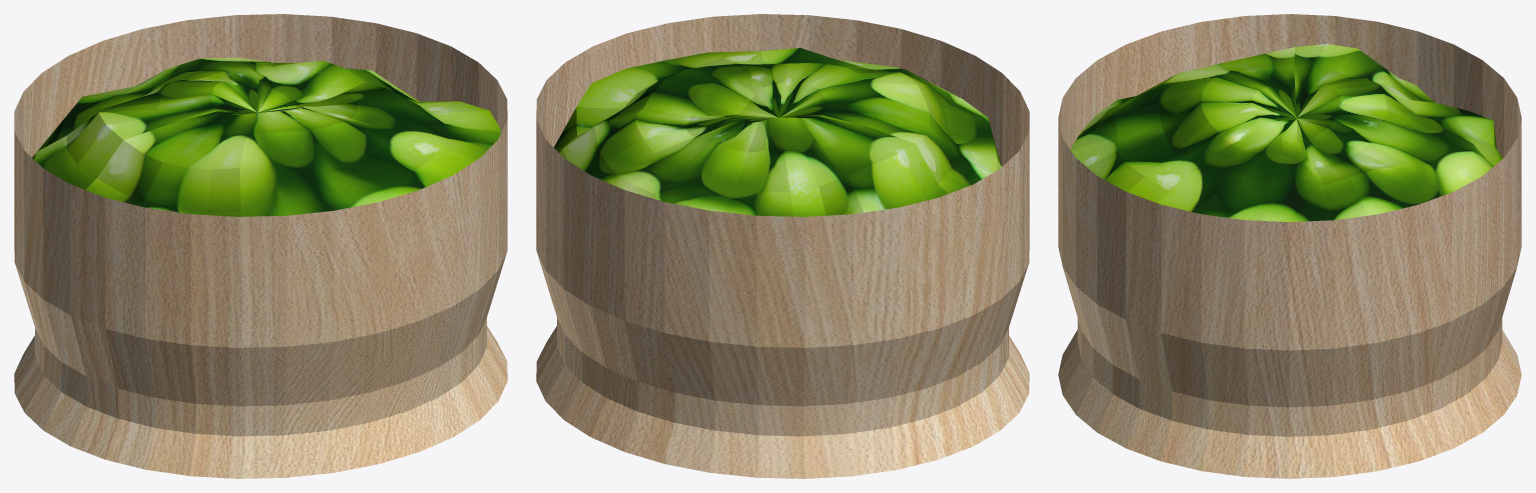
File: Kacang Hijau.fbx
3 views of the same model, side by side, from view 1: azimuth 30°, elevation 25°; view 2: azimuth 150°, elevation 25°; view 3: azimuth 270°, elevation 25° (orthographic). The views are drawn at different scales.
Visible parts, largest first — view 1: Cylinder, Sphere; view 2: Cylinder, Sphere; view 3: Cylinder, Sphere.
Boxes of the visible parts, box(x1,y1,x2,y2) form: Cylinder: box(14, 14, 507, 478); Sphere: box(32, 57, 500, 216); Cylinder: box(536, 14, 1029, 478); Sphere: box(554, 48, 1001, 311); Cylinder: box(1058, 14, 1521, 478); Sphere: box(1070, 44, 1503, 221).
Bounding box in the file's own units: 122 × 75.77 × 115.
Materials: 2 (2 with a texture image).
